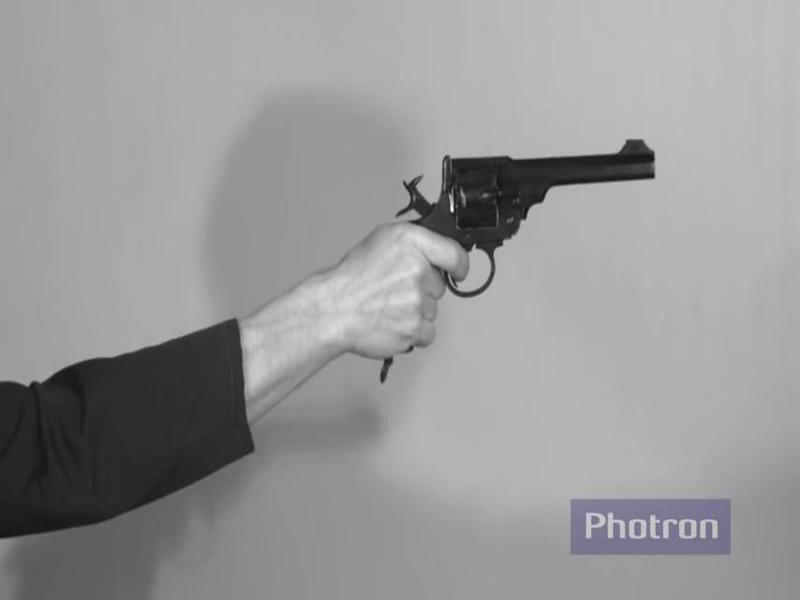Revolver: (354, 114, 667, 384)
